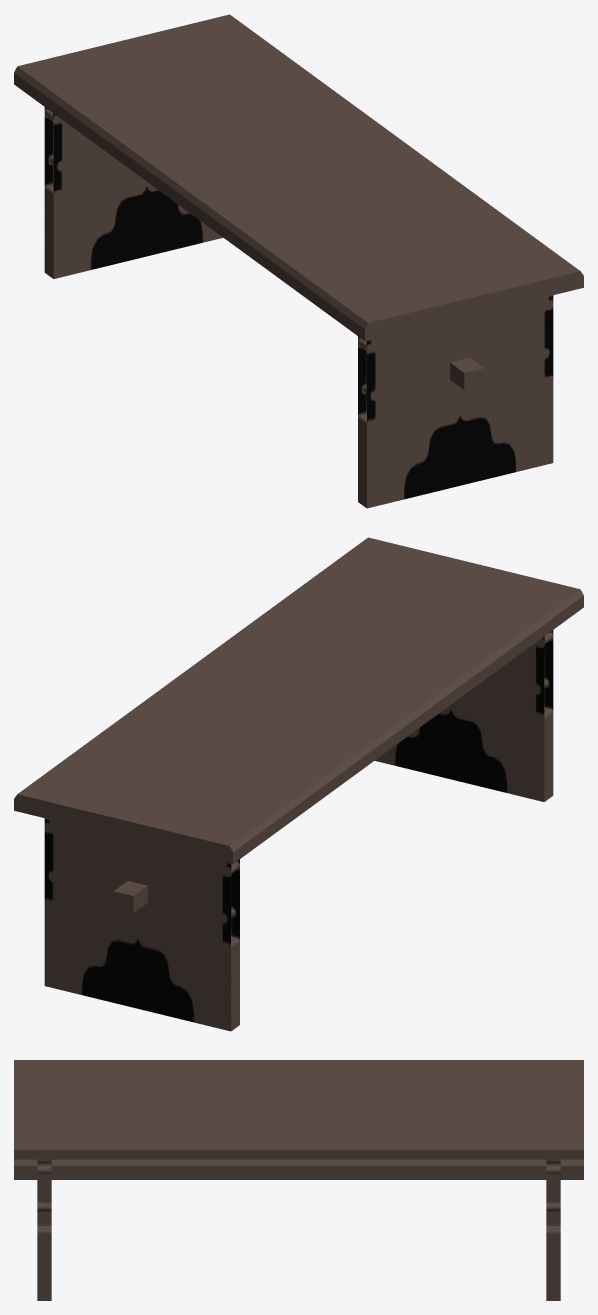
The model's file is bench.fbx.
The picture shows the model from 3 angles, top to bottom: view 1: azimuth 30°, elevation 25°; view 2: azimuth 150°, elevation 25°; view 3: azimuth 270°, elevation 25°; orthographic projection. The views are drawn at different scales.
Visible parts, largest first — view 1: Cube.002; view 2: Cube.002; view 3: Cube.002.
Part boxes in pixels (<box>): Cube.002: <box>14,14,583,508</box>; Cube.002: <box>14,537,583,1031</box>; Cube.002: <box>14,1060,583,1300</box>.
Bounding box in the file's own units: 34.85 × 30.26 × 96.65.
